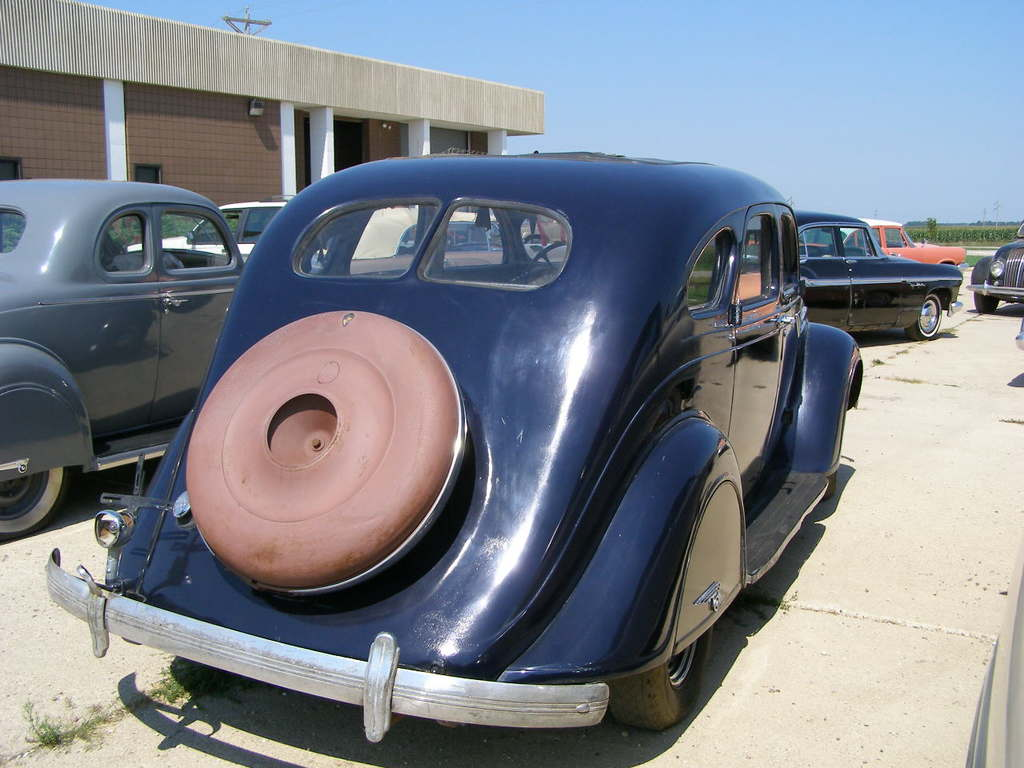Car: (148, 118, 851, 729), (0, 171, 256, 543), (746, 211, 958, 346), (130, 191, 416, 266), (808, 211, 967, 267), (963, 222, 1023, 310)
